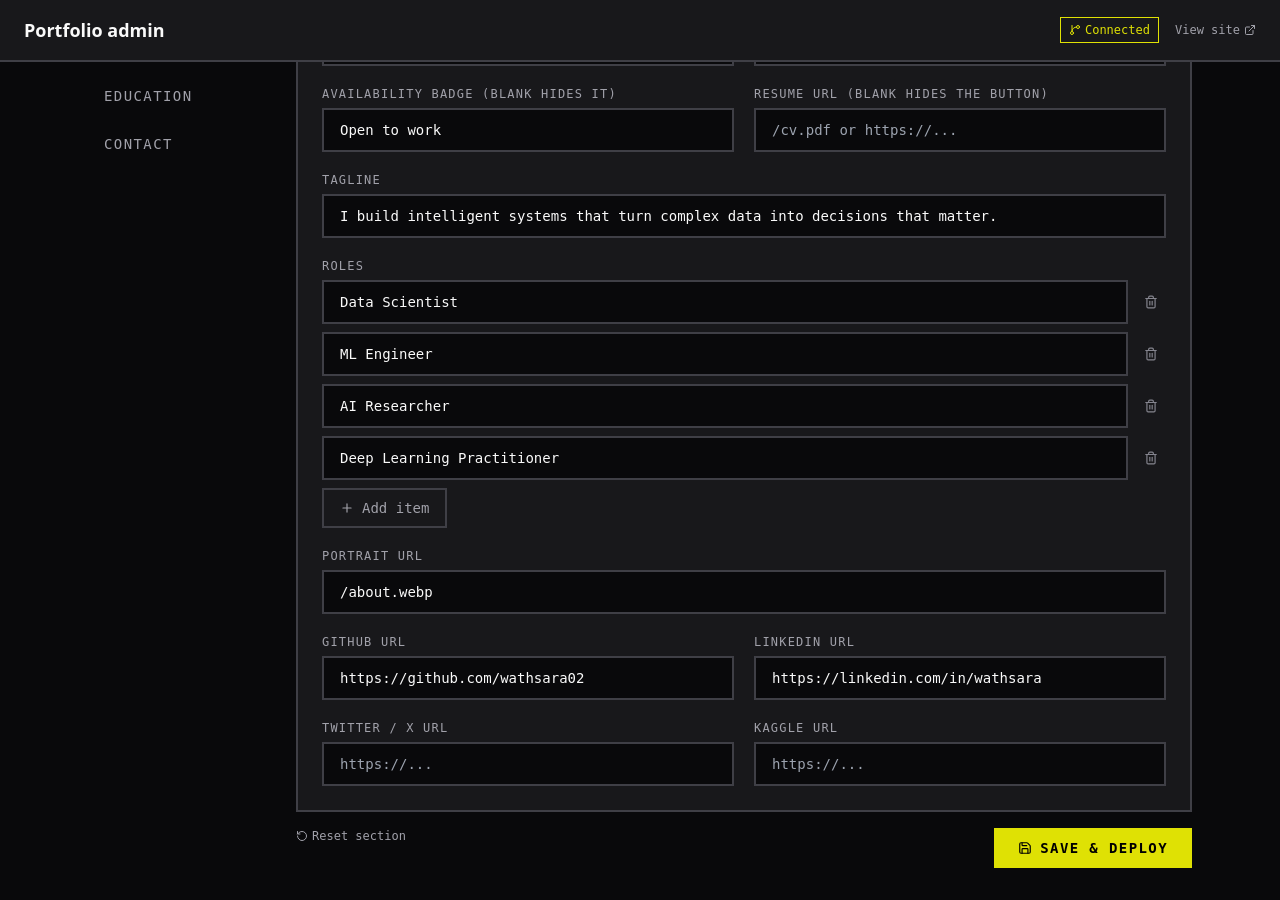
Scenario: Admin › reports a GitHub failure without losing the local draft
(page scrolled)
Click the button "Save & deploy": (1093, 848) [994,828,1192,868]
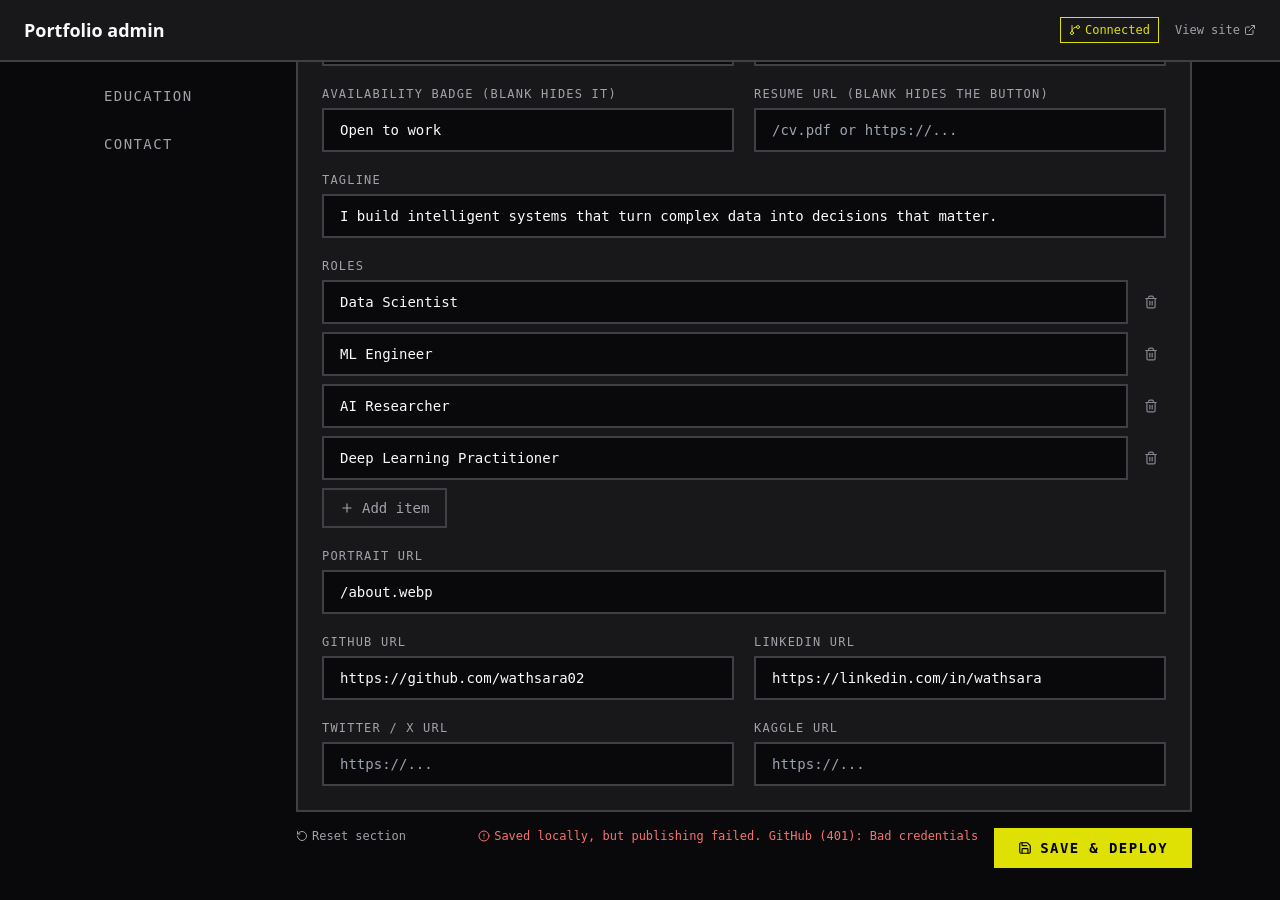
Expected: the list item is shown, [494,829,978,843]
